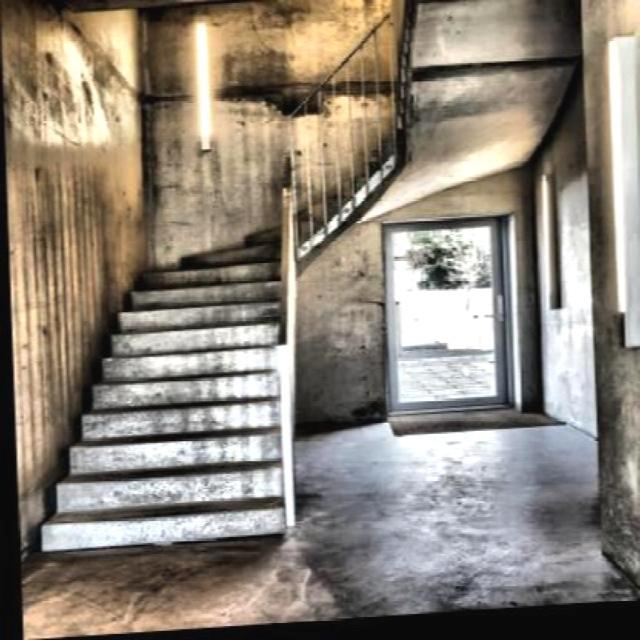stair: (25, 187, 298, 550)
